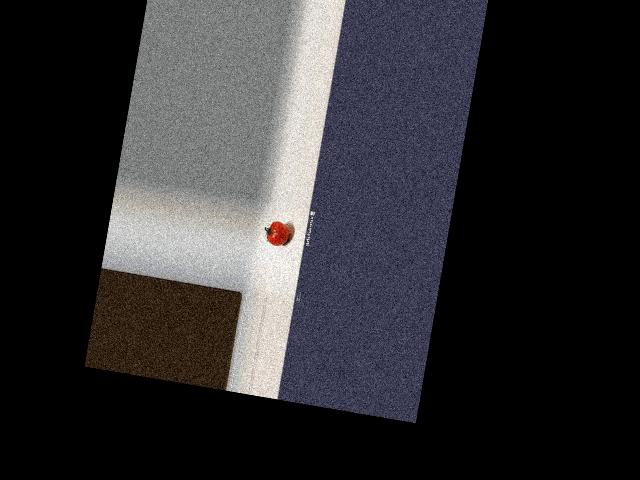tomato: (266, 220, 291, 248)
